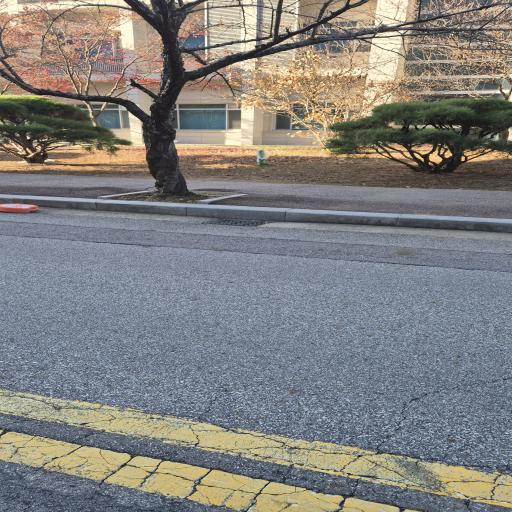drain: (206, 219, 267, 227)
